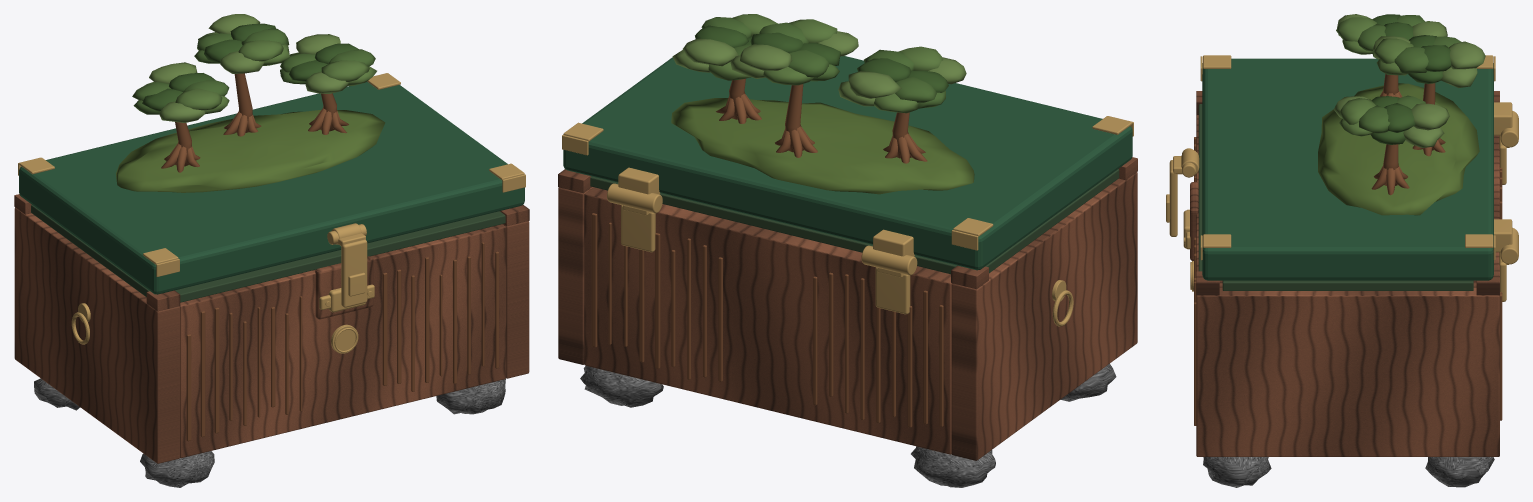
Rendered from sierra-leone.glb.
3 renders of one model, left to right at view 1: azimuth 30°, elevation 25°; view 2: azimuth 150°, elevation 25°; view 3: azimuth 270°, elevation 25°, orthographic. The views are drawn at different scales.
Visible parts, largest first — view 1: Lid / polished slab, Earth / front rear, Earth / side, Forest floor / island, Mineral seam / long, Earth / side.001, Granite foot, Granite foot.002, Latch / lifting hasp, Cedar / clasp seat, Mineral seam / side, Gola / broadleaf cluster.026 (+19 smaller); view 2: Earth / front rear.001, Lid / polished slab, Earth / side, Forest floor / island, Earth / side.001, Mineral seam / long.001, Granite foot.001, Granite foot.003, Mineral seam / side, Hinge / fixed mount, Hinge / fixed mount.001, Gola / broadleaf cluster.035 (+27 smaller); view 3: Earth / side.001, Lid / polished slab, Forest floor / island, Mineral seam / side.001, Granite foot.002, Granite foot.003, Gola / broadleaf cluster.023, Gola / broadleaf cluster.035, Mineral seam / long, Gola / broadleaf cluster.017, Gola / broadleaf cluster.032, Gola / broadleaf cluster.029 (+22 smaller).
Part boxes in pixels (x1=…): Lid / polished slab: x1=19, y1=82, x2=524, y2=294; Earth / front rear: x1=180, y1=224, x2=506, y2=458; Earth / side: x1=14, y1=207, x2=179, y2=463; Forest floor / island: x1=116, y1=110, x2=385, y2=192; Mineral seam / long: x1=175, y1=211, x2=505, y2=302; Earth / side.001: x1=502, y1=221, x2=529, y2=378; Granite foot: x1=140, y1=451, x2=214, y2=487; Granite foot.002: x1=436, y1=379, x2=505, y2=414; Latch / lifting hasp: x1=341, y1=239, x2=367, y2=307; Cedar / clasp seat: x1=315, y1=256, x2=373, y2=319; Mineral seam / side: x1=31, y1=205, x2=149, y2=296; Gola / broadleaf cluster.026: x1=321, y1=60, x2=369, y2=81; Earth / front rear.001: x1=584, y1=187, x2=951, y2=454; Lid / polished slab: x1=563, y1=56, x2=1132, y2=270; Earth / side: x1=951, y1=172, x2=1137, y2=460; Forest floor / island: x1=671, y1=98, x2=974, y2=194; Earth / side.001: x1=558, y1=187, x2=593, y2=364; Mineral seam / long.001: x1=590, y1=176, x2=956, y2=274; Granite foot.001: x1=911, y1=446, x2=995, y2=487; Granite foot.003: x1=580, y1=366, x2=663, y2=407; Mineral seam / side: x1=985, y1=169, x2=1119, y2=273; Hinge / fixed mount: x1=875, y1=267, x2=910, y2=314; Hinge / fixed mount.001: x1=621, y1=205, x2=655, y2=252; Gola / broadleaf cluster.035: x1=683, y1=38, x2=738, y2=66; Earth / side.001: x1=1196, y1=287, x2=1499, y2=456; Lid / polished slab: x1=1202, y1=58, x2=1493, y2=280; Forest floor / island: x1=1318, y1=83, x2=1479, y2=215; Mineral seam / side.001: x1=1222, y1=280, x2=1473, y2=290; Granite foot.002: x1=1203, y1=457, x2=1271, y2=487; Granite foot.003: x1=1425, y1=457, x2=1494, y2=487; Gola / broadleaf cluster.023: x1=1448, y1=41, x2=1485, y2=69; Gola / broadleaf cluster.035: x1=1411, y1=103, x2=1449, y2=130; Mineral seam / long: x1=1198, y1=104, x2=1202, y2=271; Gola / broadleaf cluster.017: x1=1394, y1=46, x2=1428, y2=73; Gola / broadleaf cluster.032: x1=1384, y1=103, x2=1415, y2=132; Gola / broadleaf cluster.029: x1=1359, y1=105, x2=1389, y2=133.
Size of the model in its own units: 3.79 by 3.32 by 2.88.
11 materials, 2 textured.
